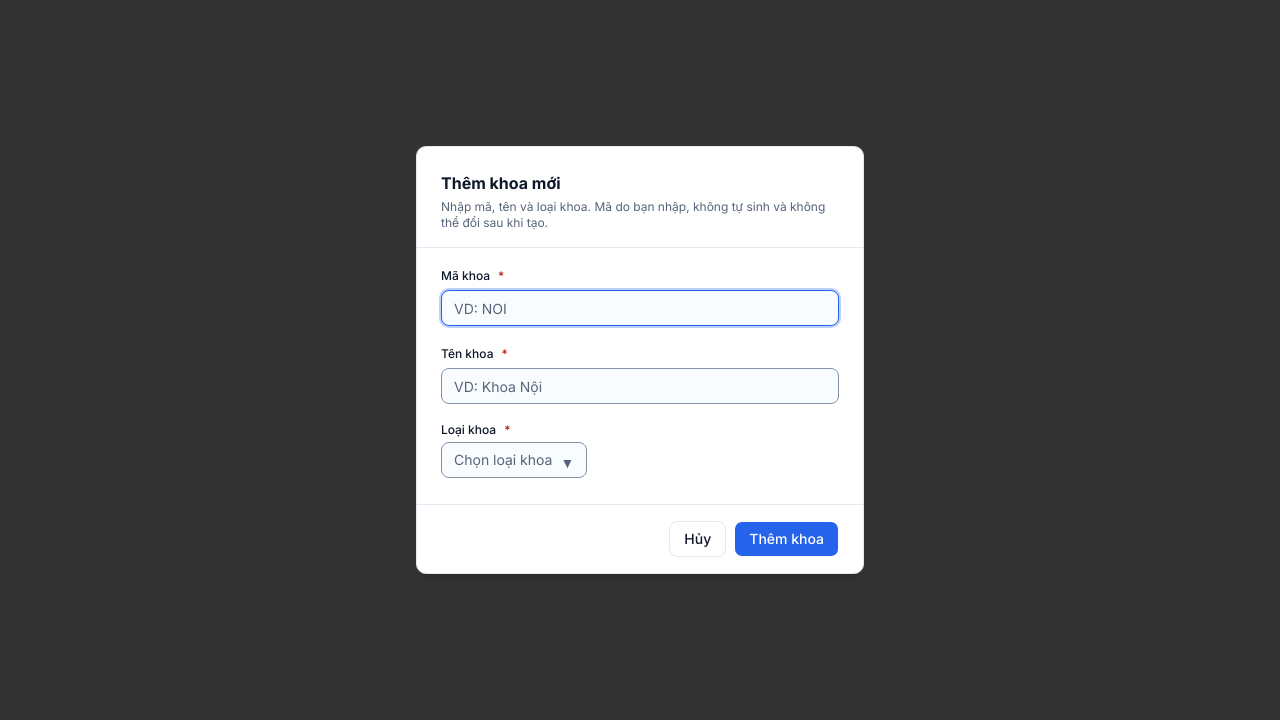
Scenario: UI/UX Consistency across 5 catalogs › Form Dialogs with FormTextField inheritance › renders form fields with standard label, required markers, and error wiring
Check: the dialog "Thêm khoa mới" is shown, box [416,146,864,574]
Check: the field labelled "Mã khoa *" is shown, box [441,290,839,326]
# Submit empty to trigger validation
Click the button "Thêm khoa": [787, 539] box [734,521,839,557]
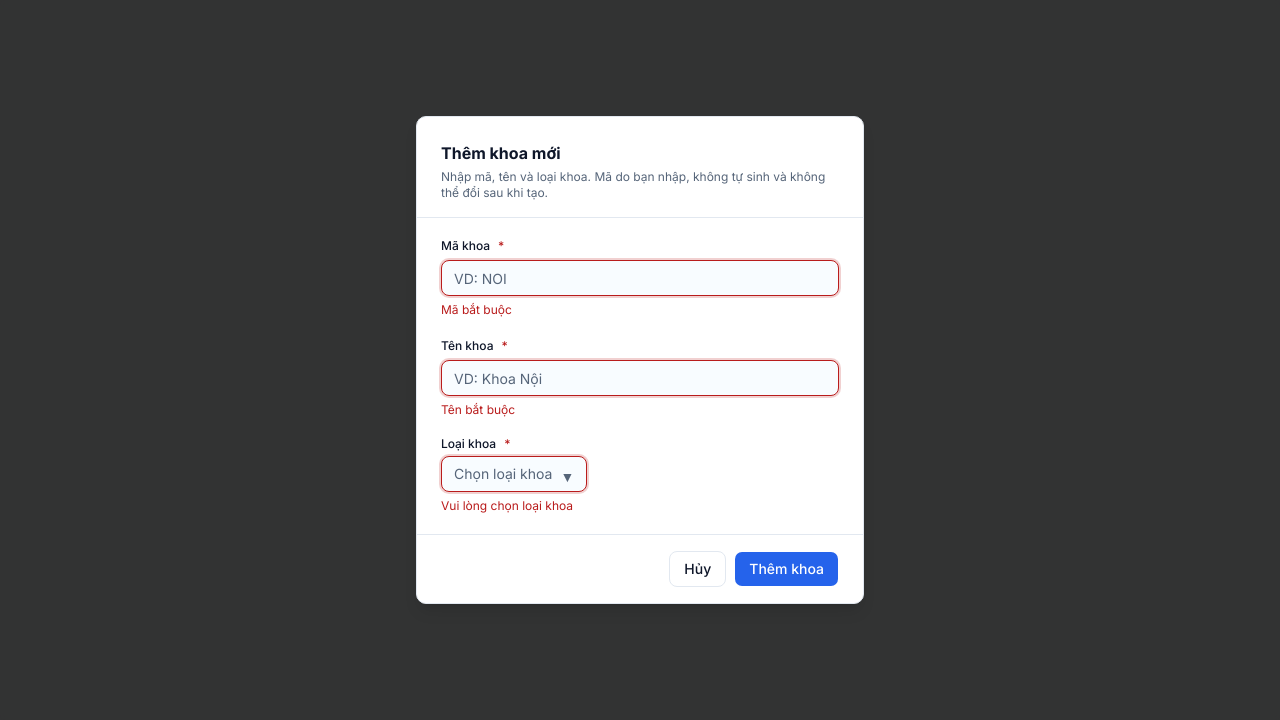
Check: the text "Mã bắt buộc" is shown, box [441,302,512,317]
Check: the text "Tên bắt buộc" is shown, box [441,402,515,417]
